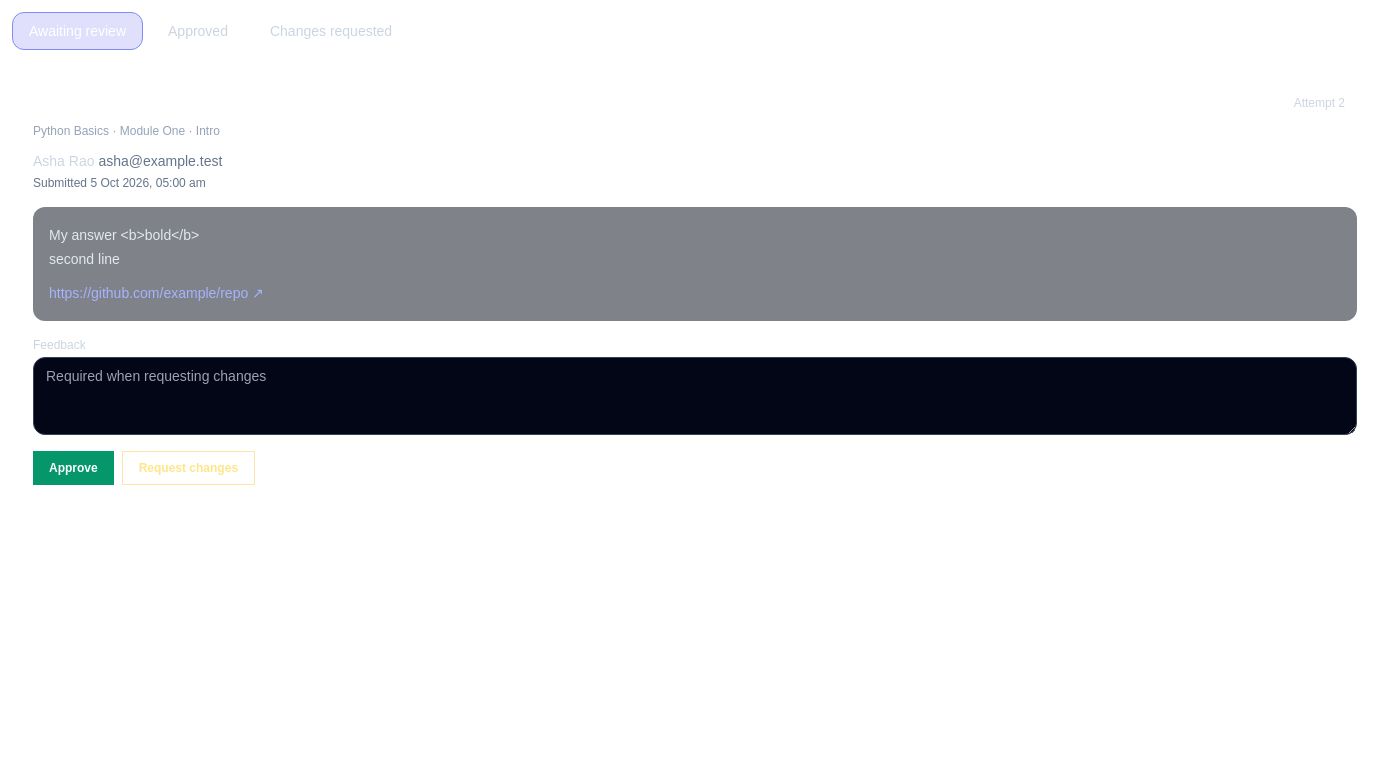
Scenario: ReviewQueue › tells the reviewer when an approval completes the course
The width and height of the screenshot is (1378, 780).
Click the button "approve ": x=73, y=468 [33,451,114,485]
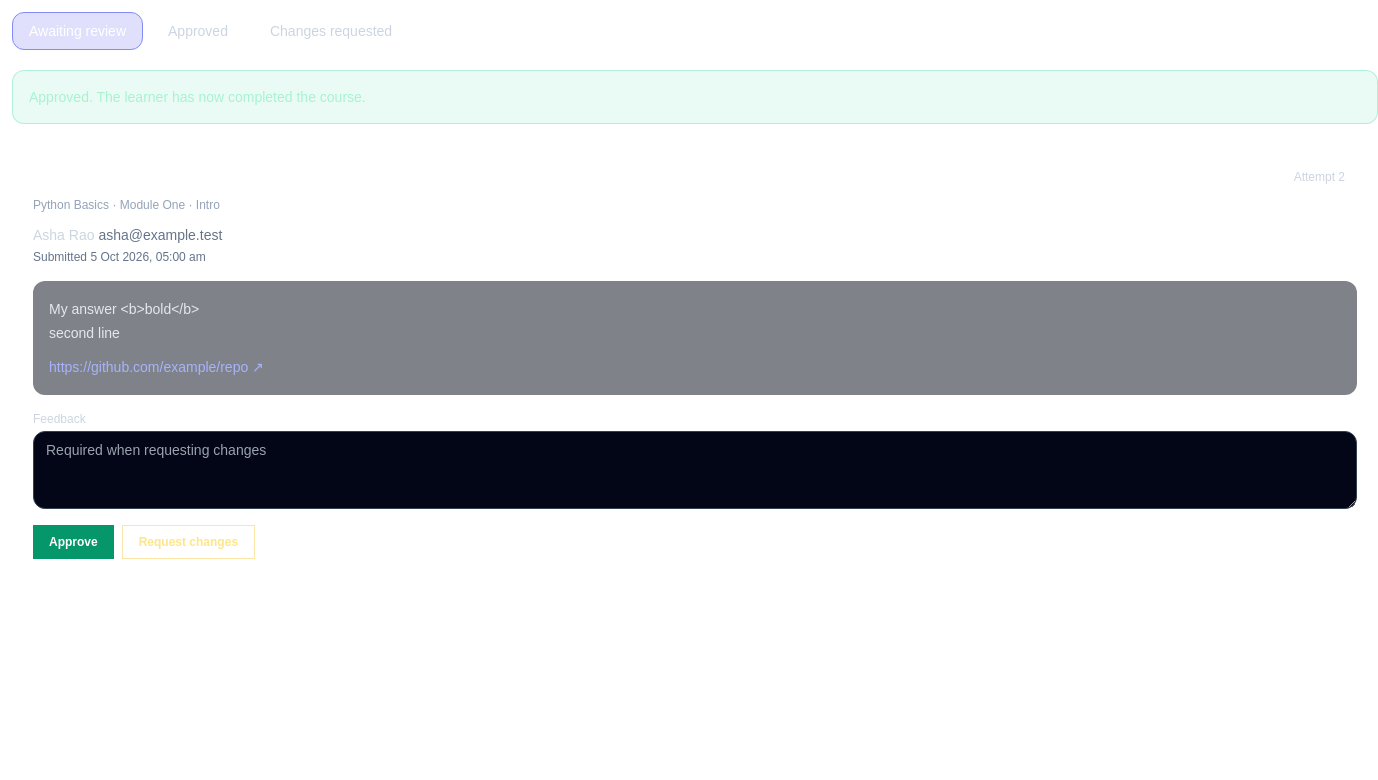
Check: the text "Approved. The learner has now completed the course." is shown, box [12,70,1377,124]
